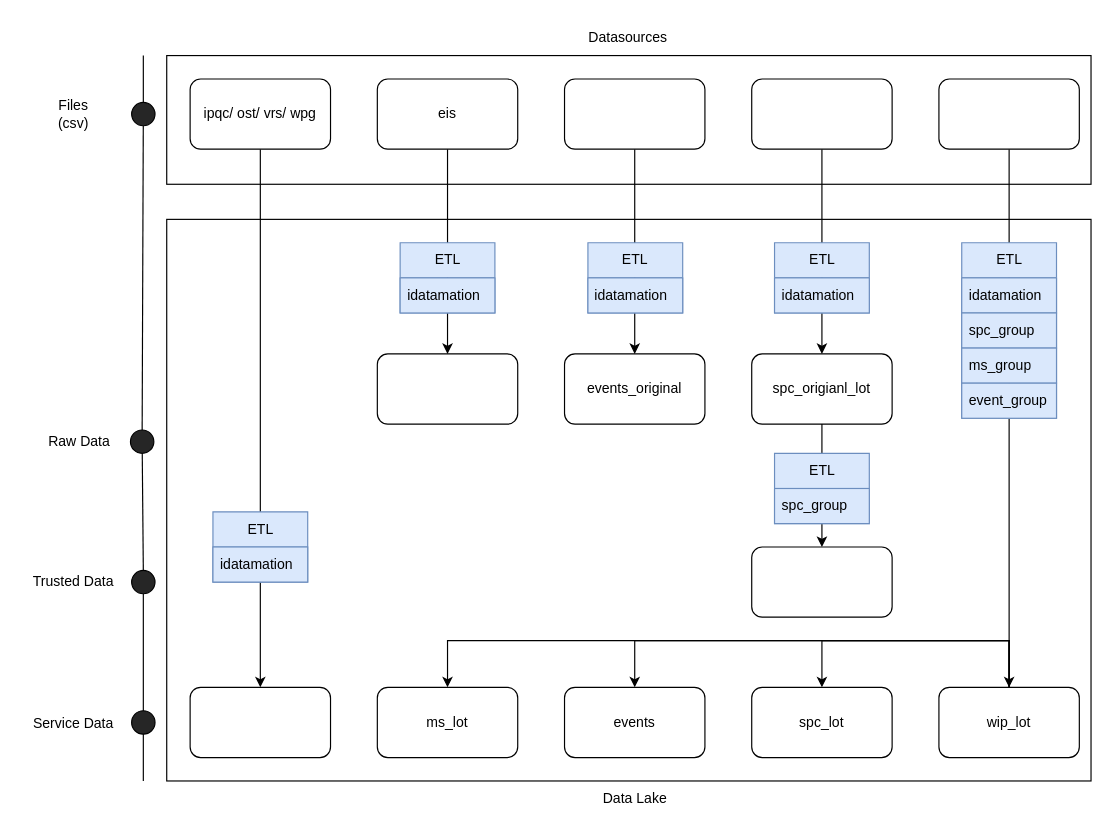
Some shapes in this 1112 by 835 pixel diagram are drawn without their labels. Here are the shapes that lost their labels. From the top down, the box of each, then its label:
(563, 78, 705, 149): event
(751, 78, 892, 149): spc
(938, 78, 1079, 149): mes
(376, 353, 518, 424): ms_original_lot
(751, 546, 892, 617): spc_group_lot
(189, 686, 331, 758): ipqc_lot/ ost_lot/ vrs_lot/ wpg_lot
